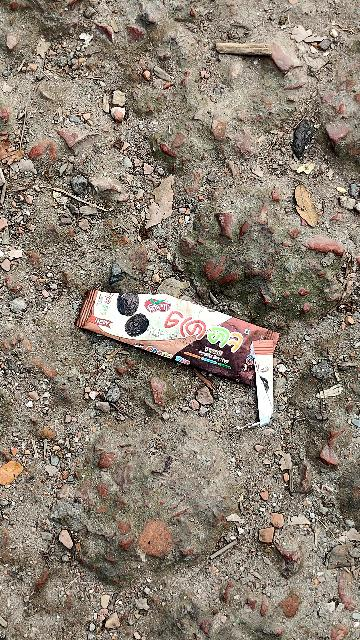packet: (69, 282, 282, 391)
